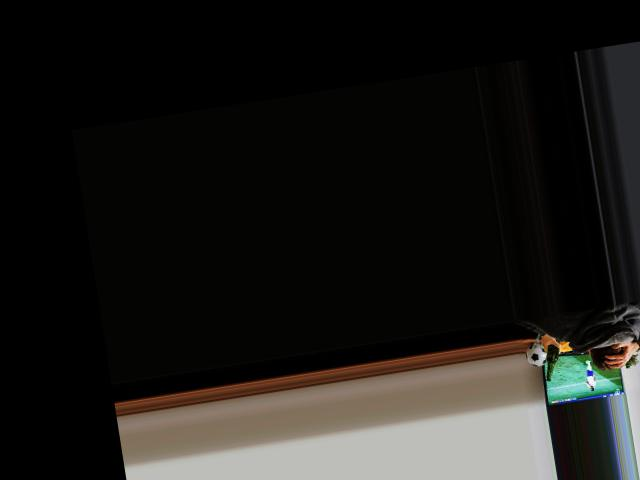beer: (539, 337, 564, 381)
